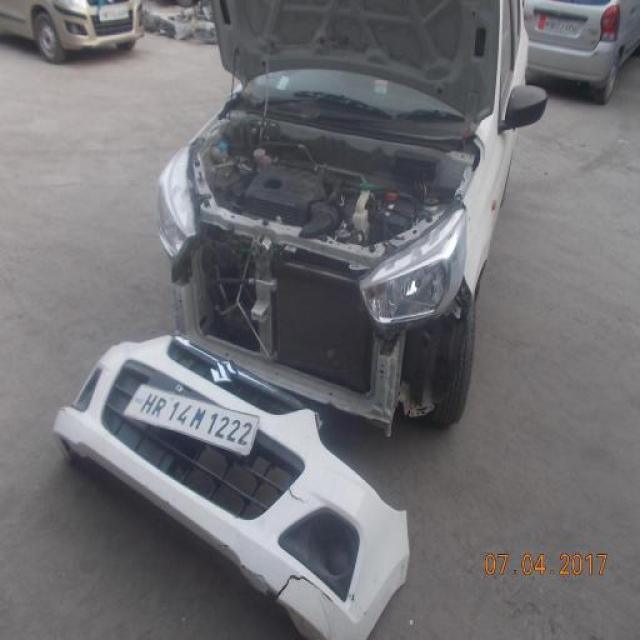missing: (167, 222, 467, 421)
